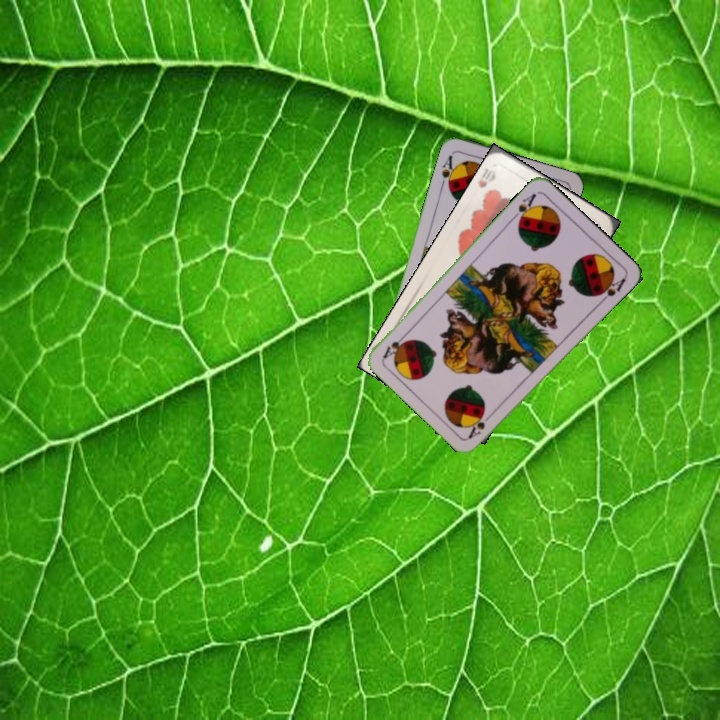H10: (474, 164, 499, 190)
SA: (508, 189, 539, 226), (464, 408, 496, 441), (437, 151, 459, 192)
